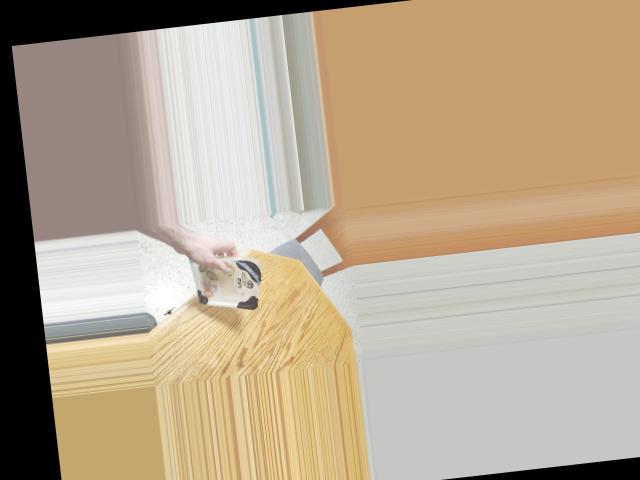cheese: (177, 248, 267, 313)
